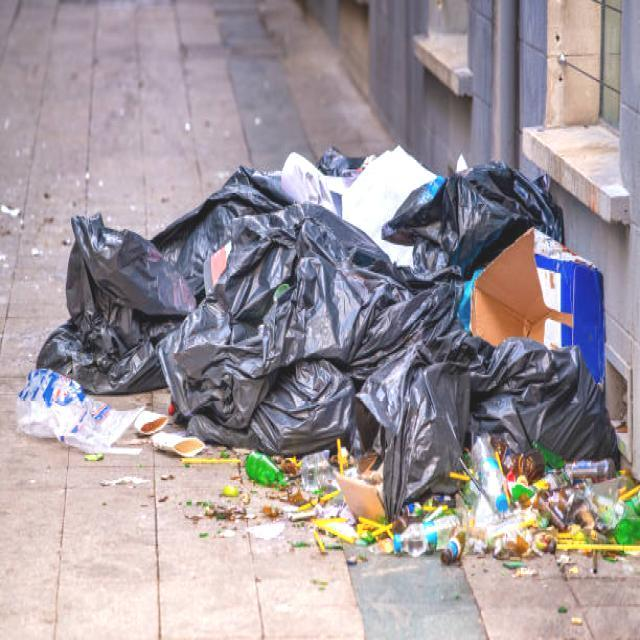high trash: (18, 146, 640, 578)
